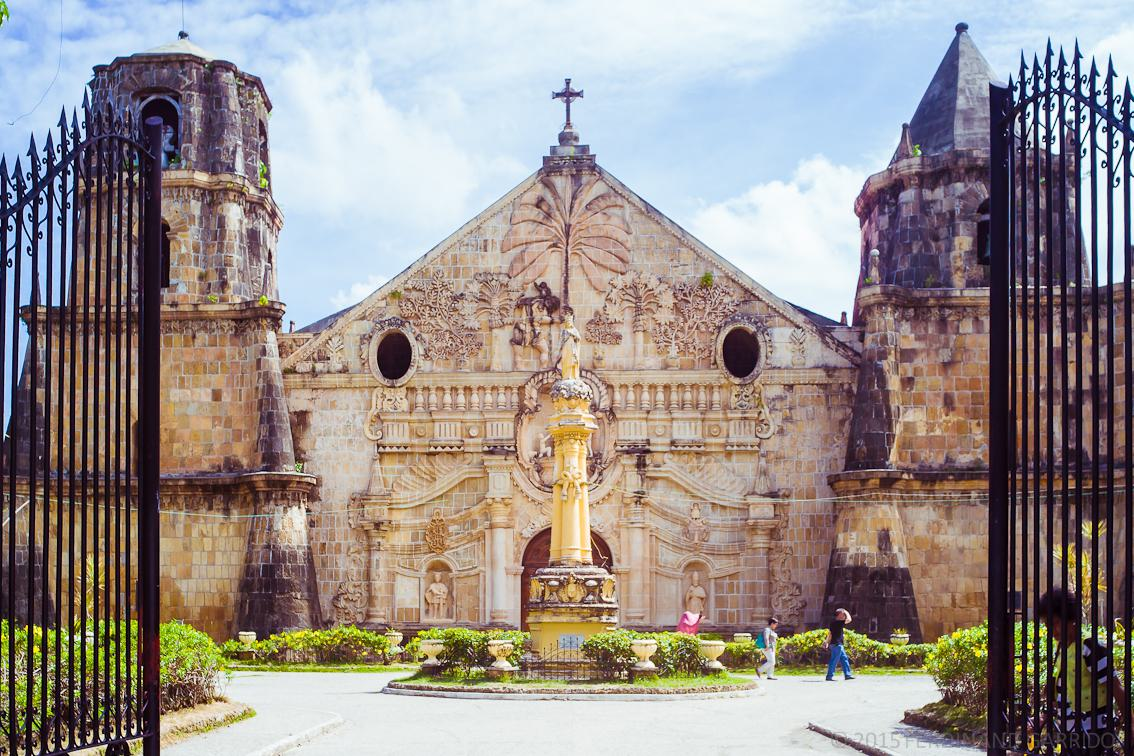Environmental Damage: (246, 156, 274, 196), (692, 267, 717, 293), (251, 288, 274, 313), (202, 290, 227, 313)
Miagao Church: (41, 12, 1116, 661)
